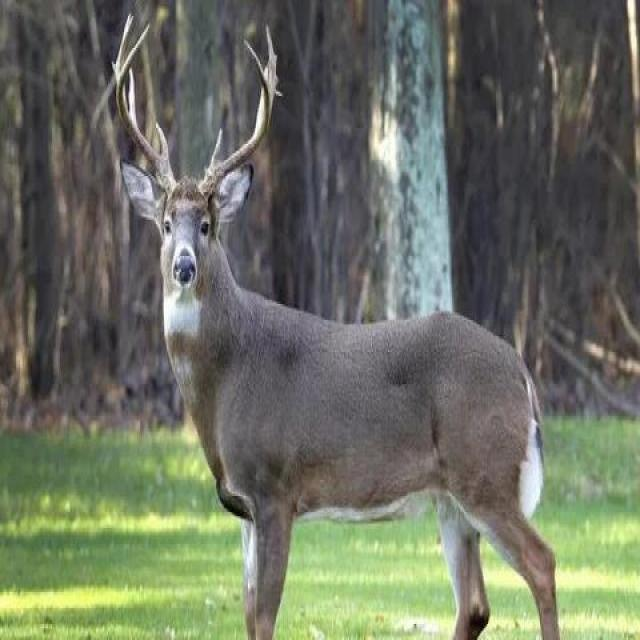deer: (115, 73, 512, 610)
